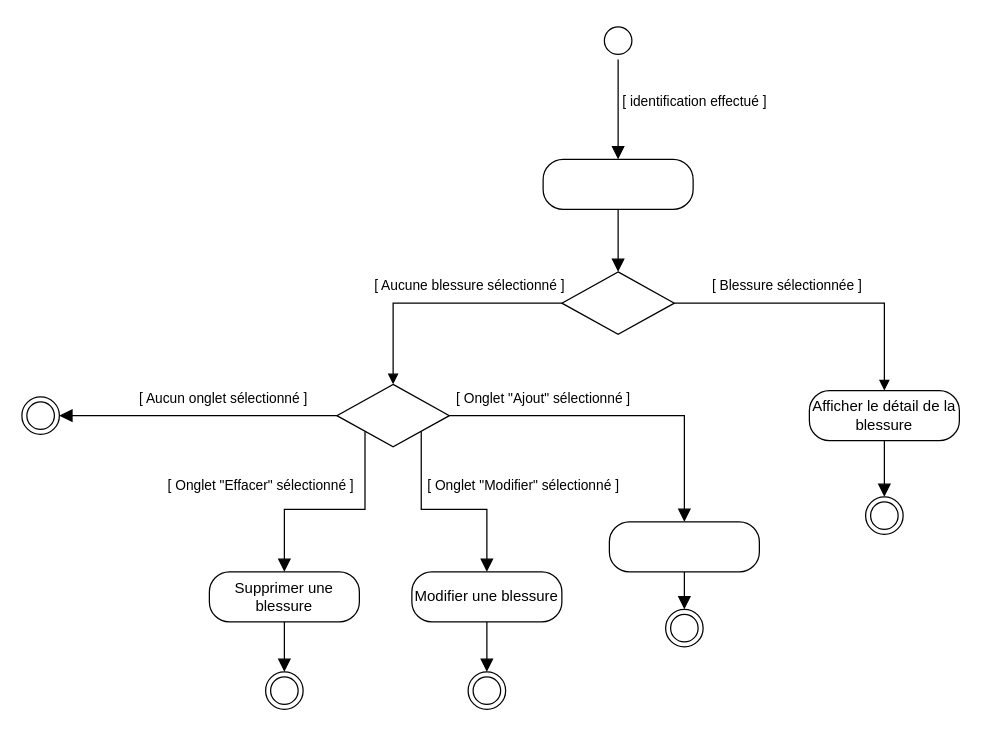
This 981x731 diagram has some shape labels left out. Each missing label, with the centre of its shape:
"Afficher historique des blessures" goes at (617,183).
"Ajouter une blessure" goes at (683,546).
